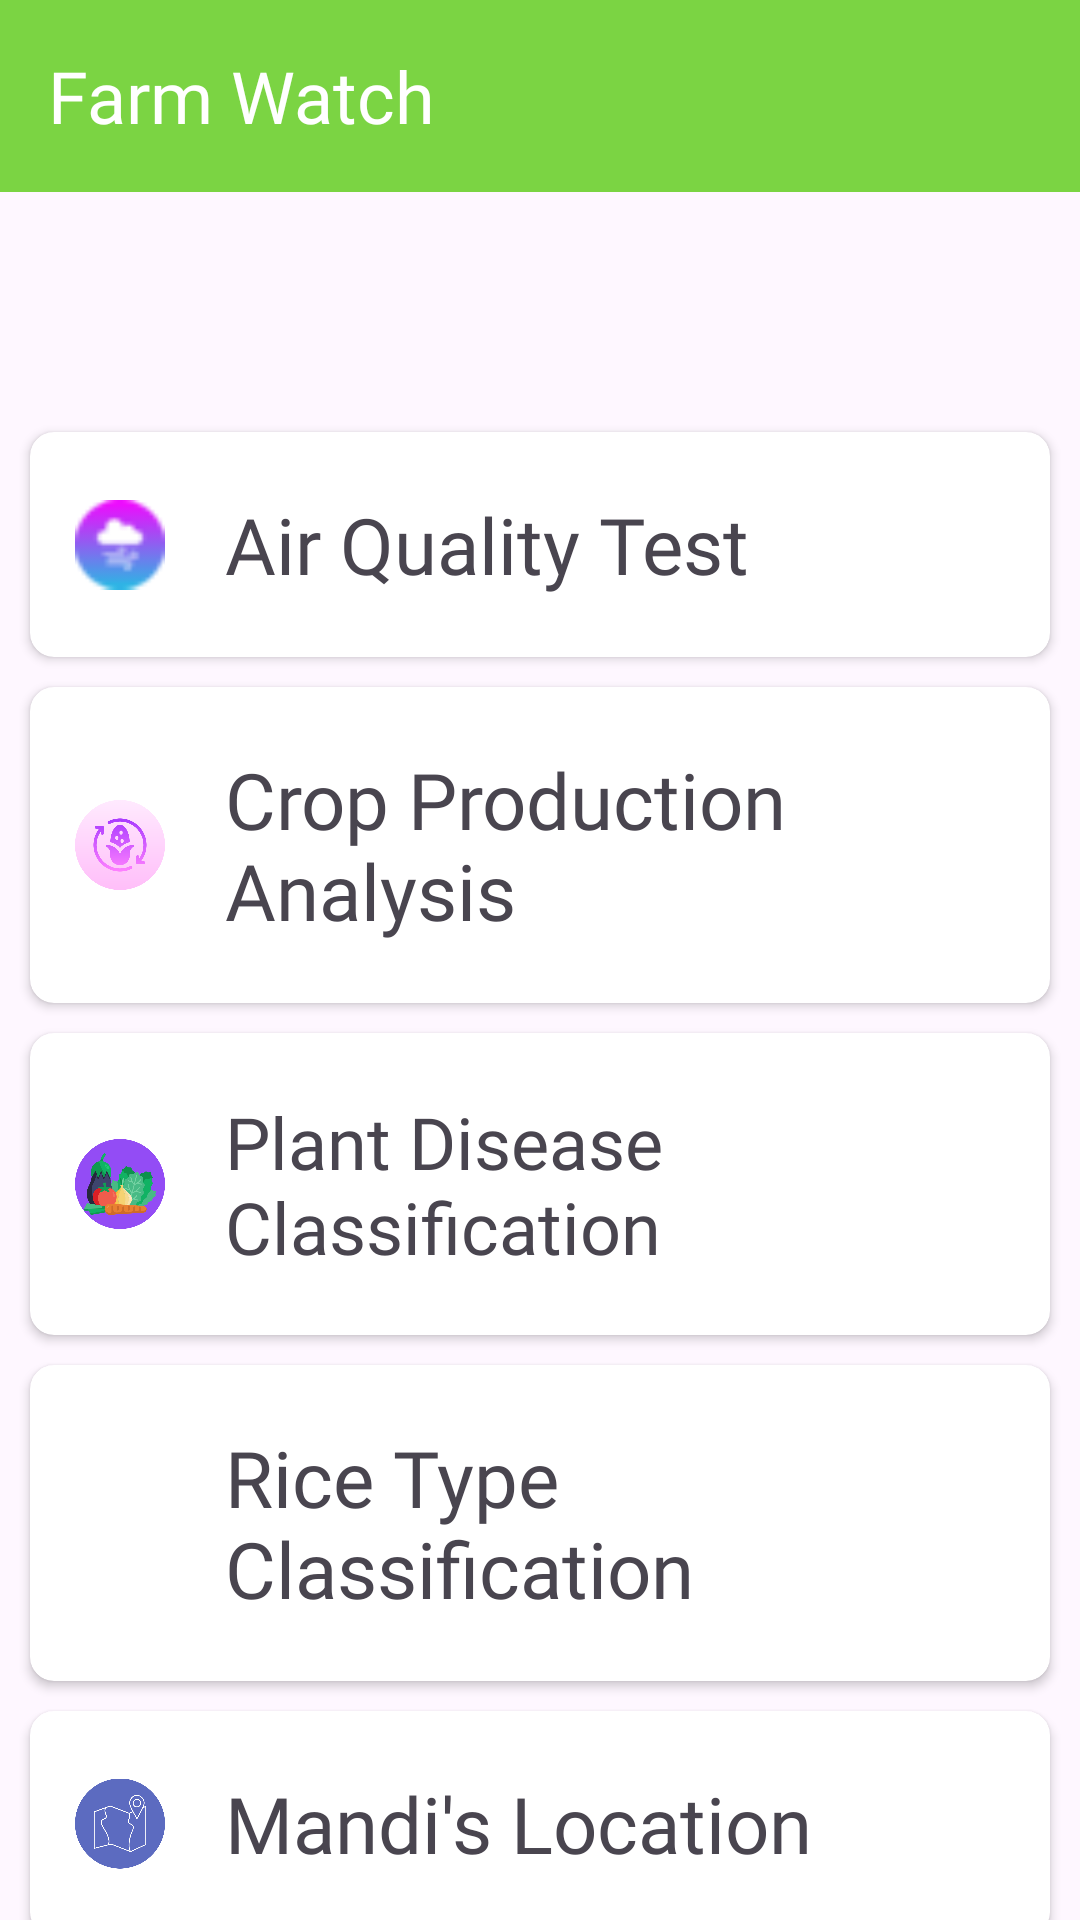

Locate icon controls on the screen. Image size 1080×1920, boxes as (x1=x1, y1=y1, x2=x2, y2=y2).
map: (x1=75, y1=1779, x2=165, y2=1869)
vegetable: (x1=75, y1=1139, x2=165, y2=1229)
wind: (x1=75, y1=500, x2=165, y2=590)
